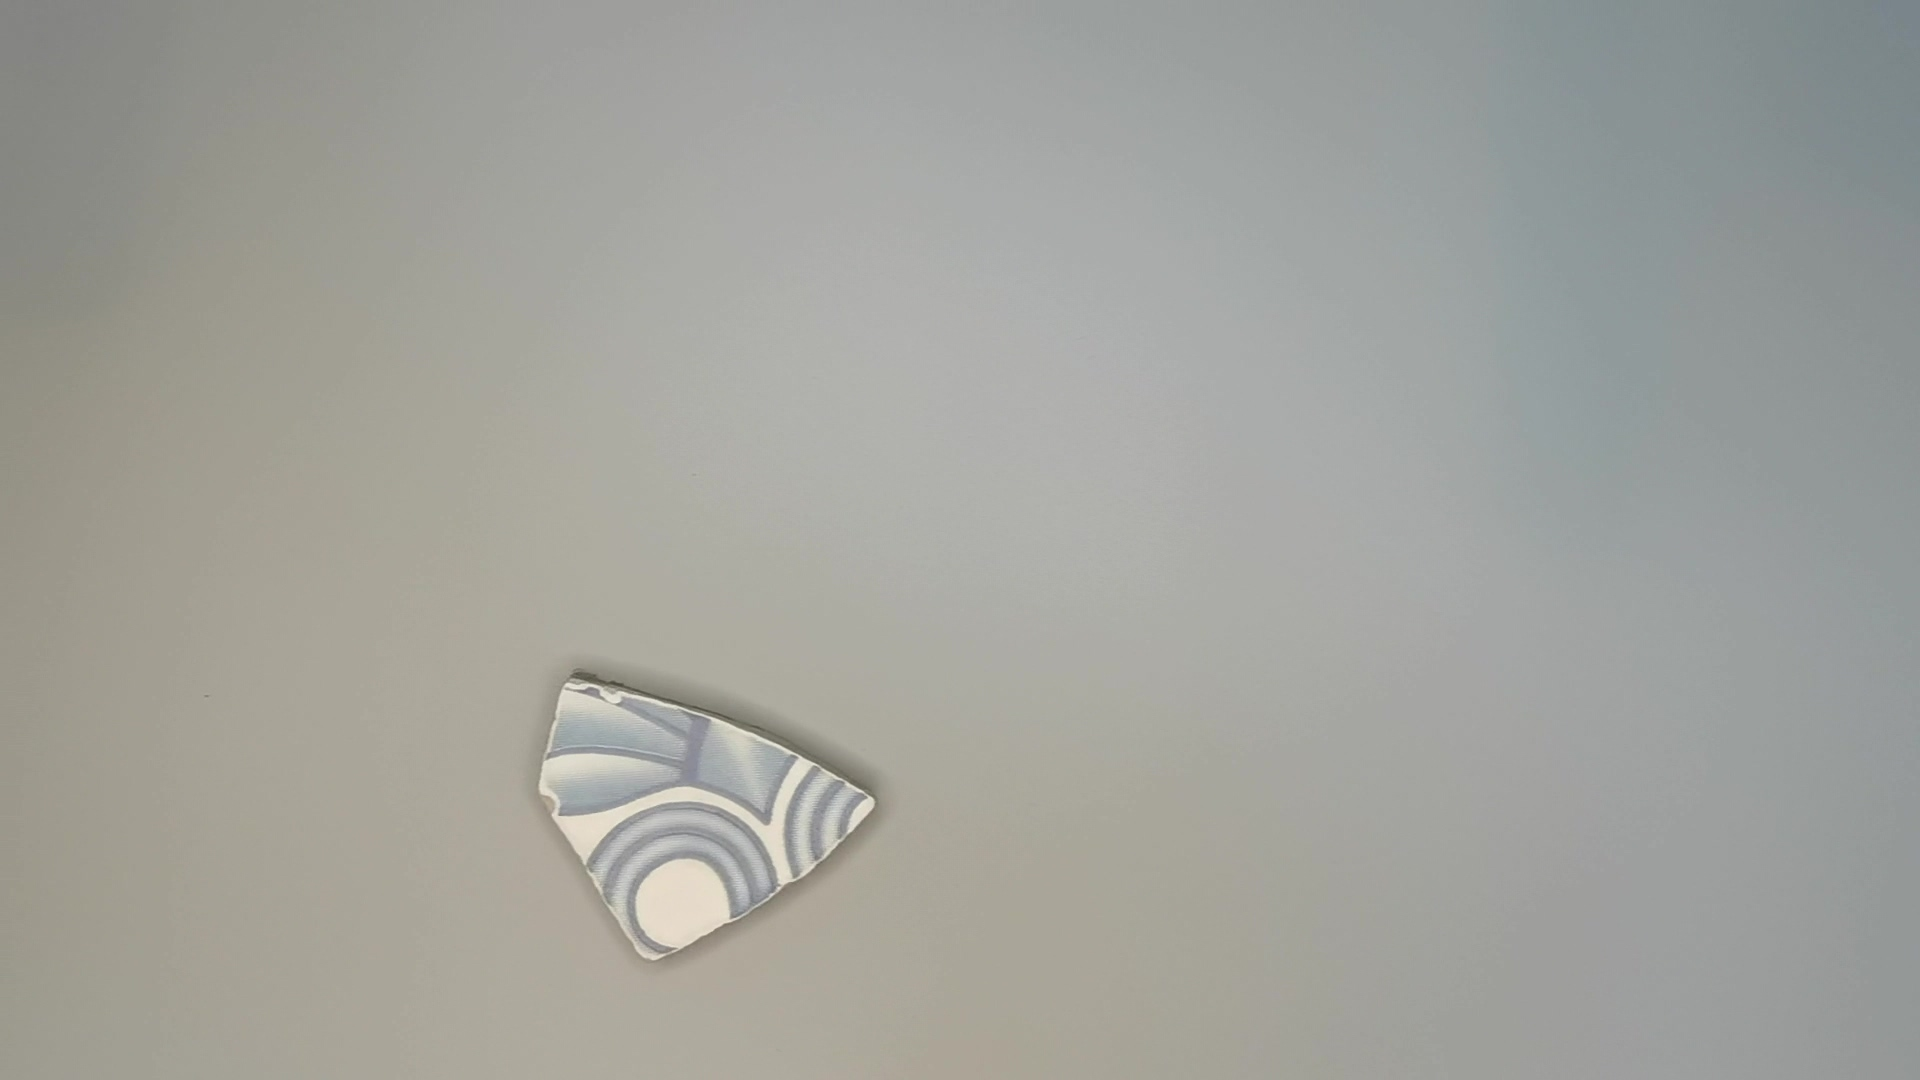ceramic: (529, 657, 887, 972)
